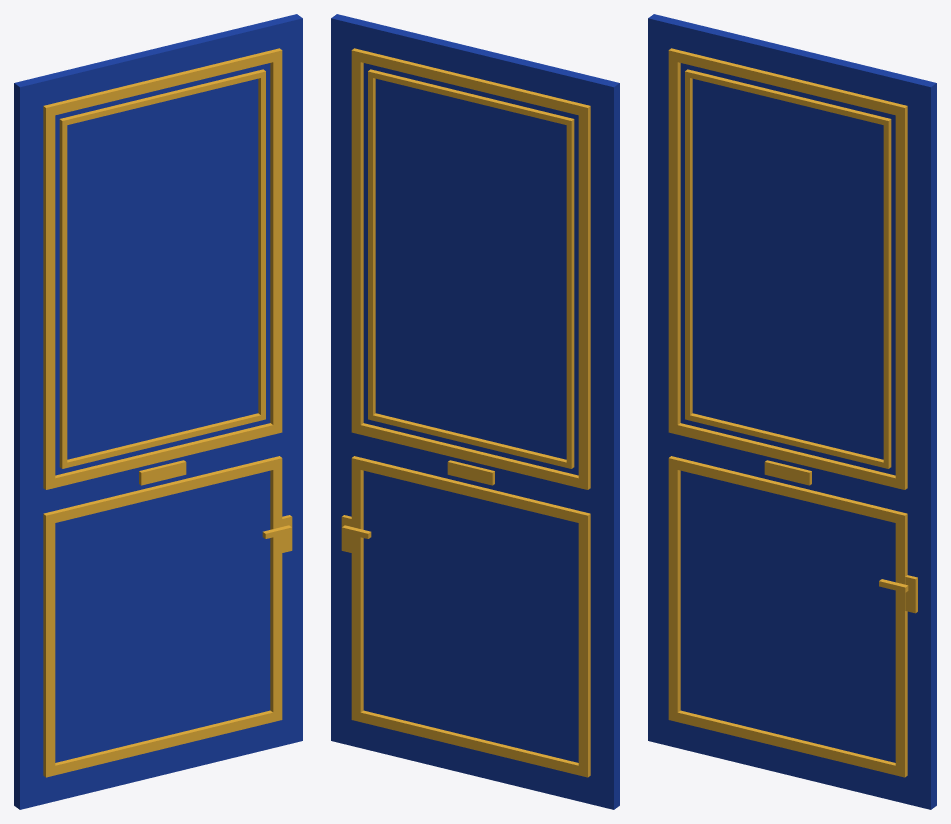
File: SM_Door_obelisk_140x340.fbx
3 views of the same model, side by side, from view 1: azimuth 30°, elevation 25°; view 2: azimuth 150°, elevation 25°; view 3: azimuth 330°, elevation 25° (orthographic).
Parts seen in each view (by area): view 1: SM_Door_obelisk_140x340; view 2: SM_Door_obelisk_140x340; view 3: SM_Door_obelisk_140x340.
Part boxes in pixels (<box>): SM_Door_obelisk_140x340: <box>14,14,302,809</box>; SM_Door_obelisk_140x340: <box>331,14,619,809</box>; SM_Door_obelisk_140x340: <box>648,14,936,809</box>.
Size of the model in its own units: 1.39 by 3.39 by 0.175.
